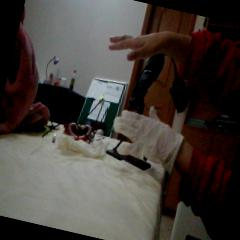gloved: (105, 98, 185, 168)
not-gloved: (106, 18, 186, 70)
